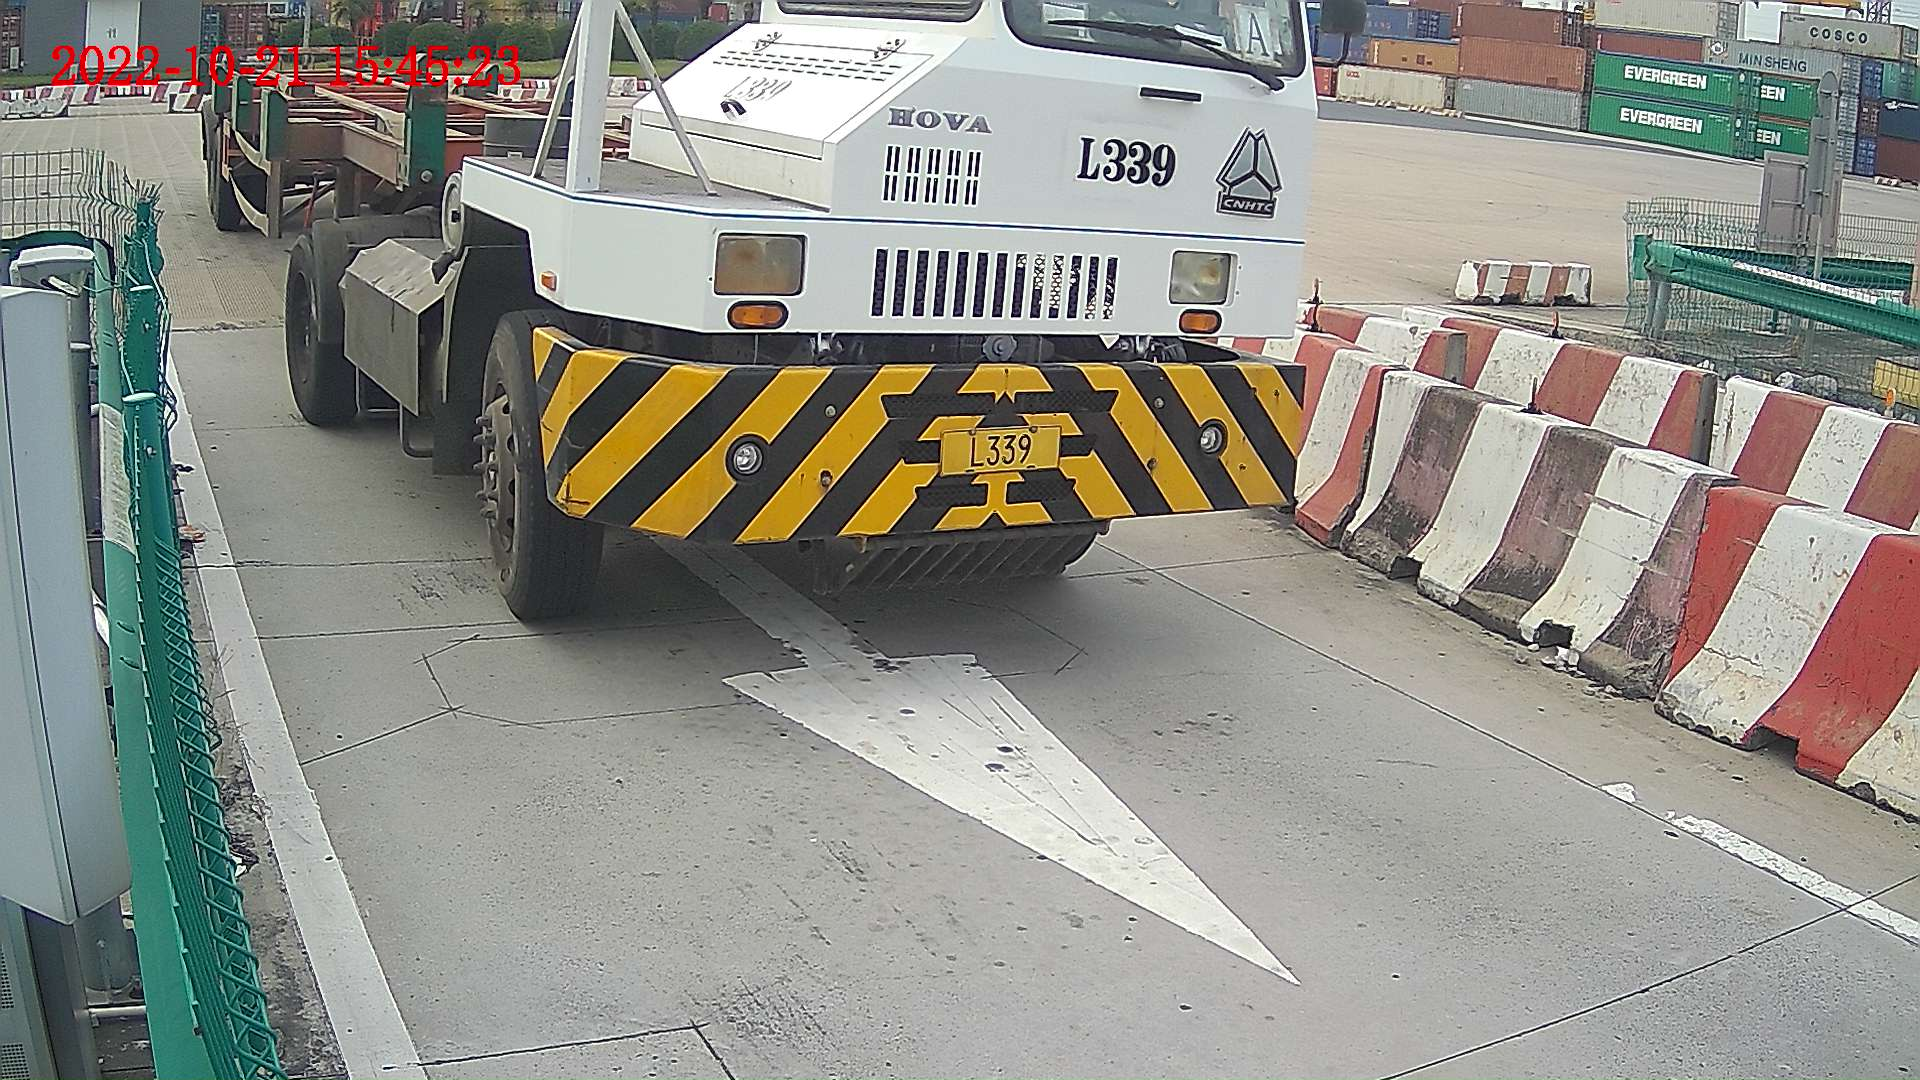head: (469, 1, 1322, 614)
plate: (942, 430, 1063, 468)
